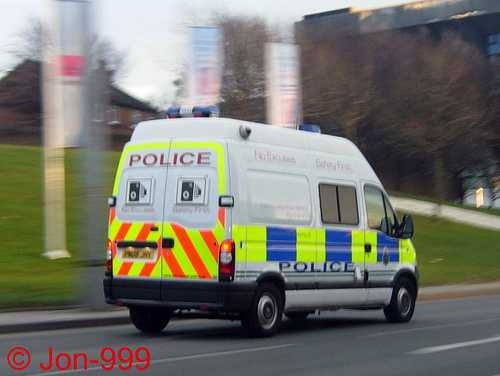Police Car: (97, 98, 424, 330)
